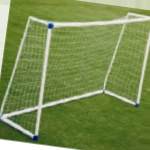goals: (1, 9, 150, 140)
